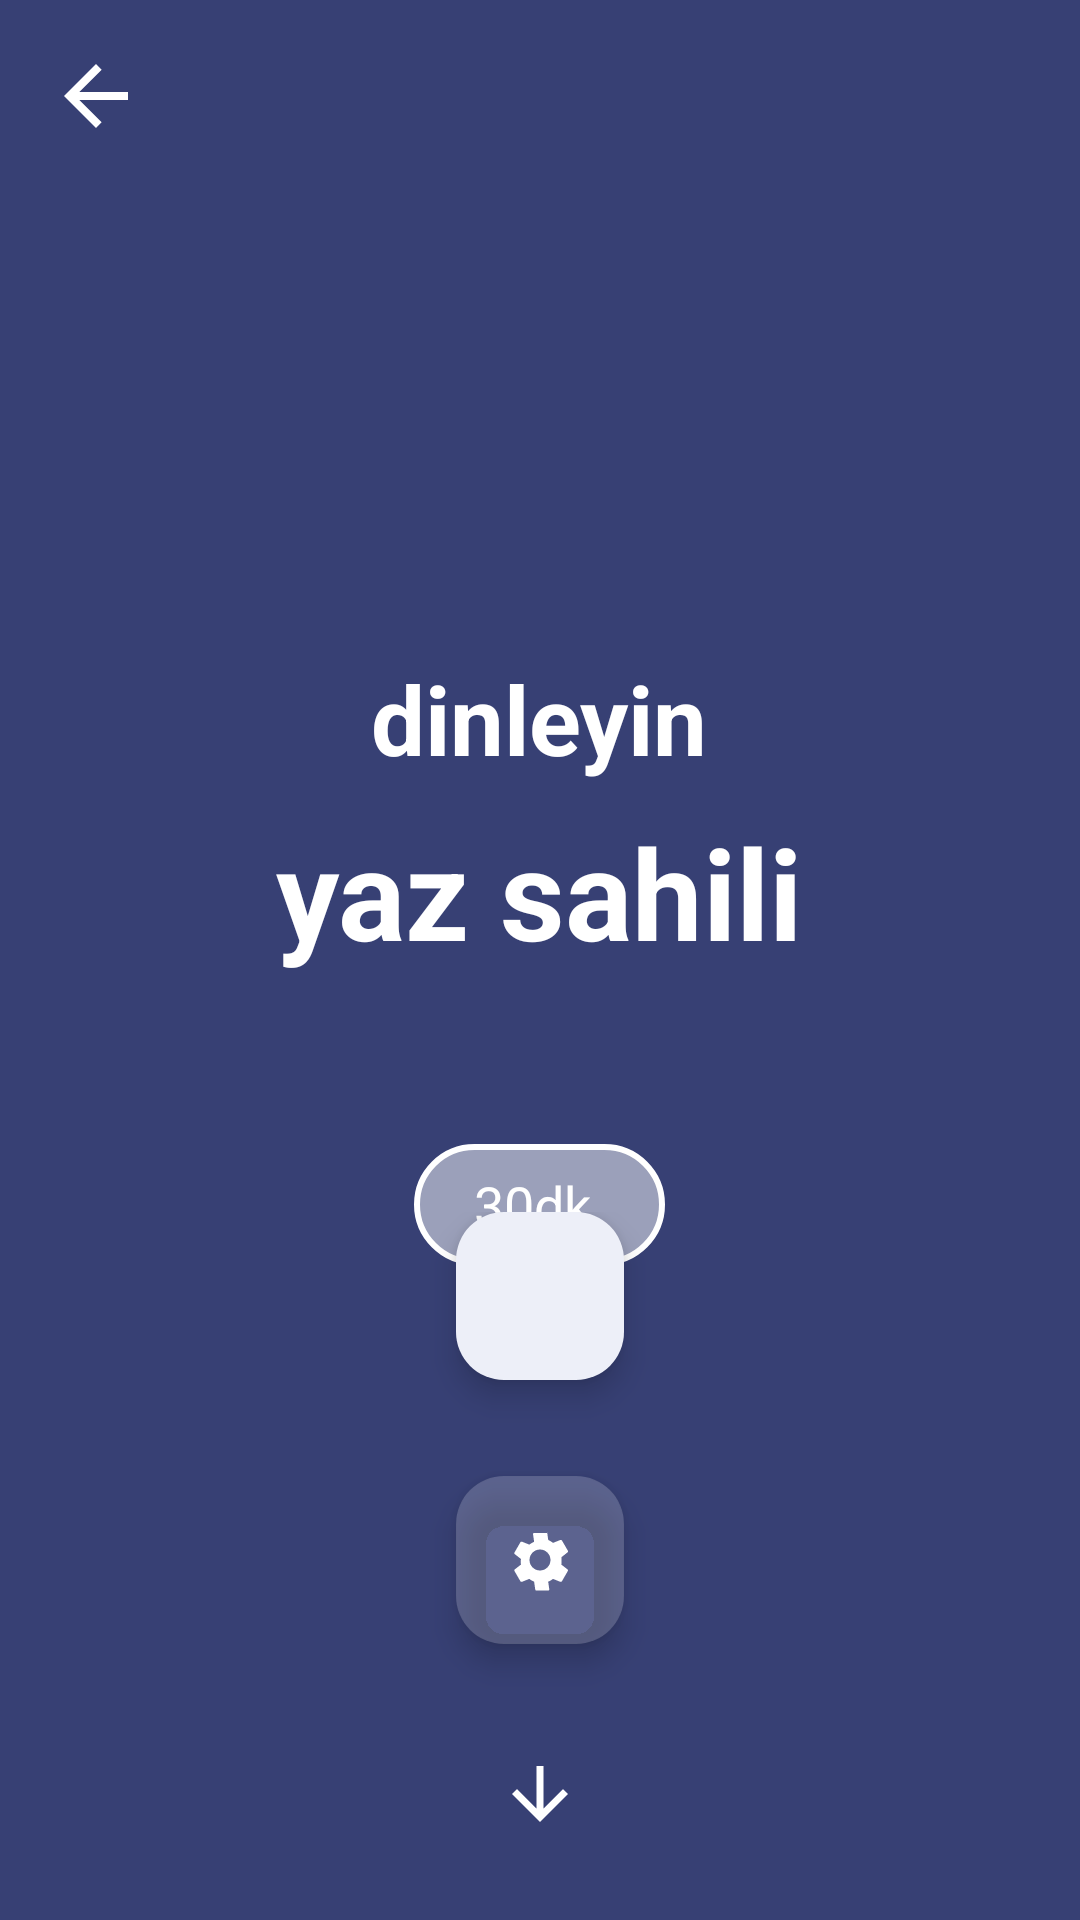

Named icons in this screenshot (1080*1920) and their bounding boxes, (x1, y1, x2, y2):
settings: (456, 1476, 624, 1644)
